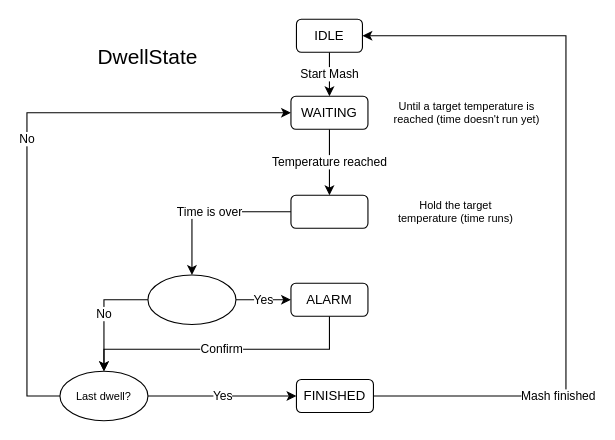
Some shapes in this 615 by 440 pixel diagram are drawn without their labels. Here are the shapes that lost their labels. From the top down, the centre of each, then its label:
the point at 329,211: PENDING
the point at 191,299: Alarm active for that dwell?
